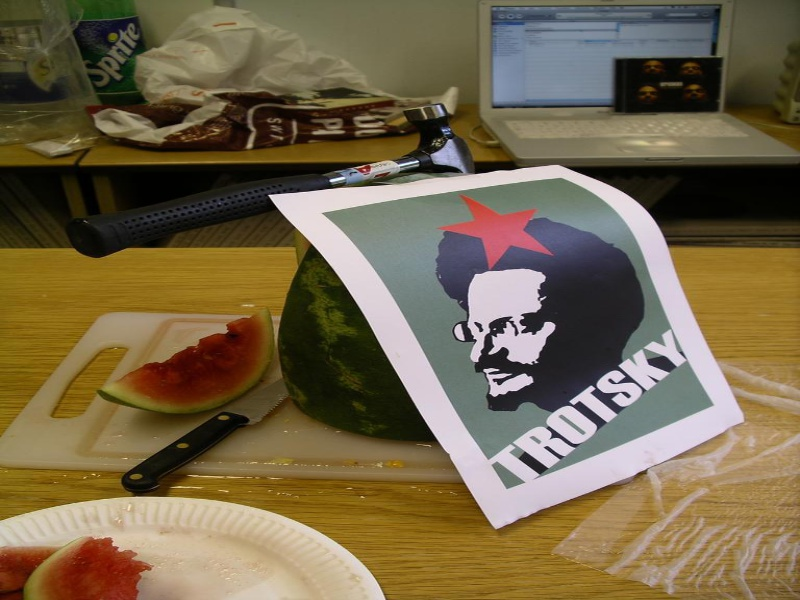knife: (118, 371, 296, 494)
